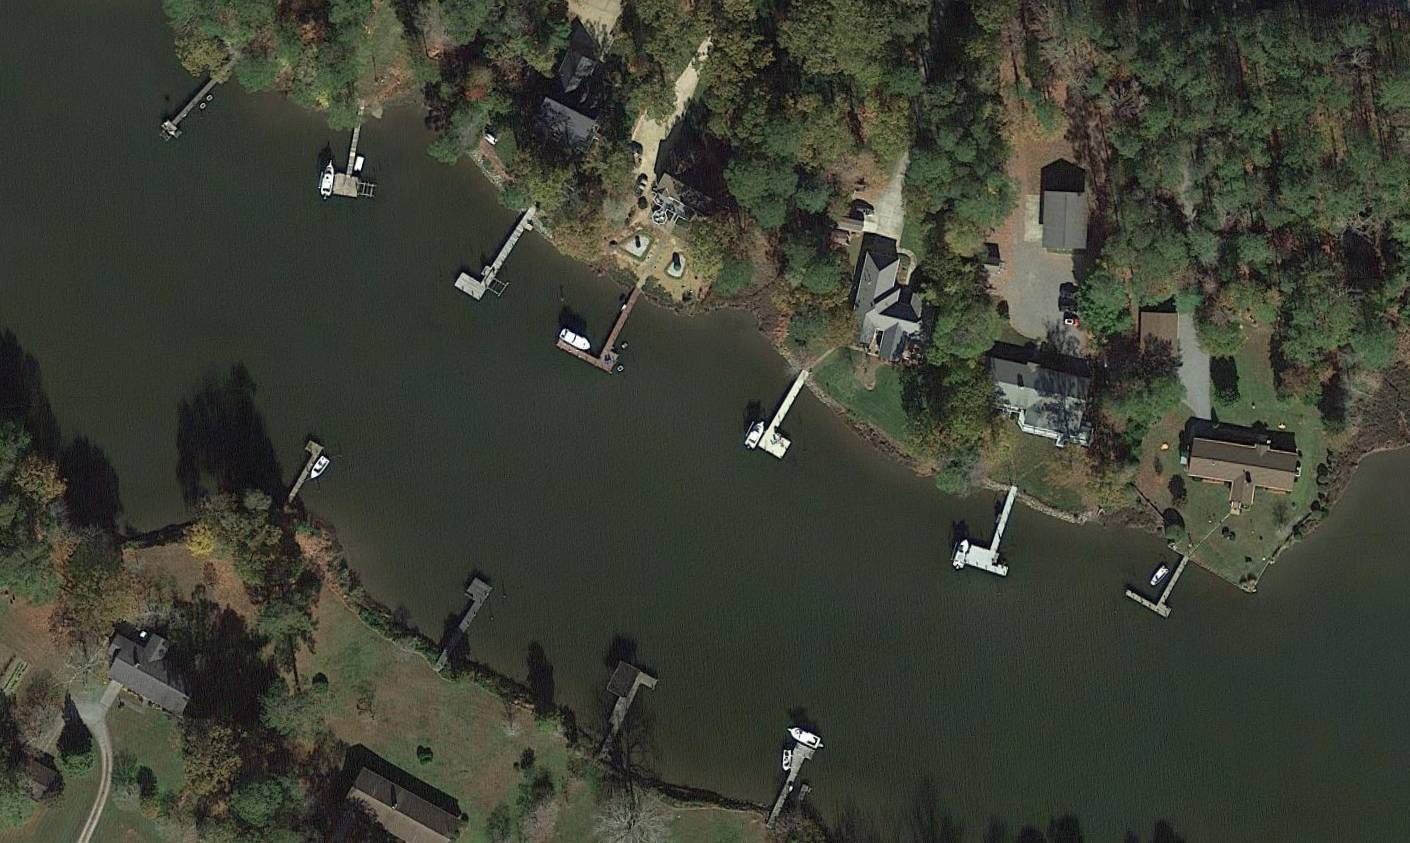harbor: (556, 276, 646, 375), (586, 659, 661, 753), (454, 213, 523, 301), (965, 493, 1033, 579), (1125, 545, 1194, 619), (433, 577, 494, 659), (157, 72, 222, 146), (758, 381, 818, 461), (769, 741, 818, 811), (280, 439, 327, 501), (333, 123, 372, 198)
ship: (786, 721, 825, 750), (559, 325, 594, 356), (317, 158, 339, 200), (950, 536, 974, 572), (743, 418, 769, 451)
